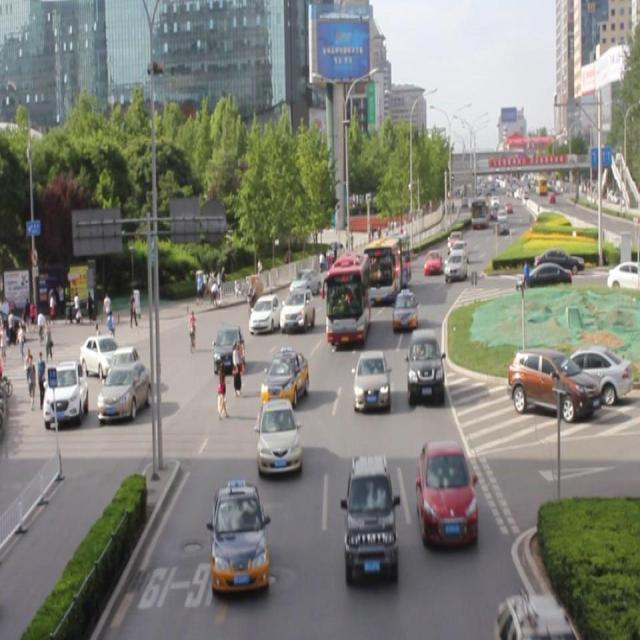car: (211, 481, 268, 589), (346, 452, 395, 576), (417, 440, 475, 544), (497, 591, 572, 640), (258, 398, 302, 474), (406, 326, 444, 399), (261, 350, 308, 409), (355, 349, 388, 412), (280, 286, 315, 336), (213, 325, 247, 373), (249, 293, 282, 334), (392, 289, 417, 331), (444, 250, 466, 282), (423, 249, 442, 275)
van: (324, 251, 368, 342), (364, 236, 409, 304)
